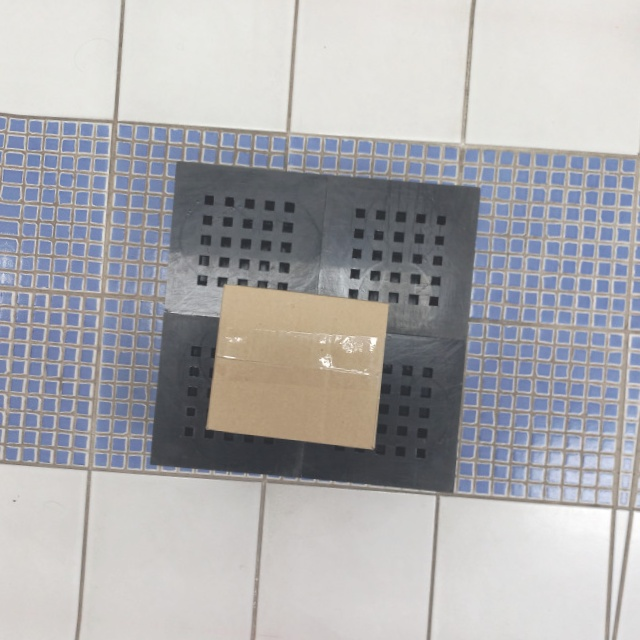box: (207, 281, 390, 453)
pallet: (144, 151, 488, 512)
